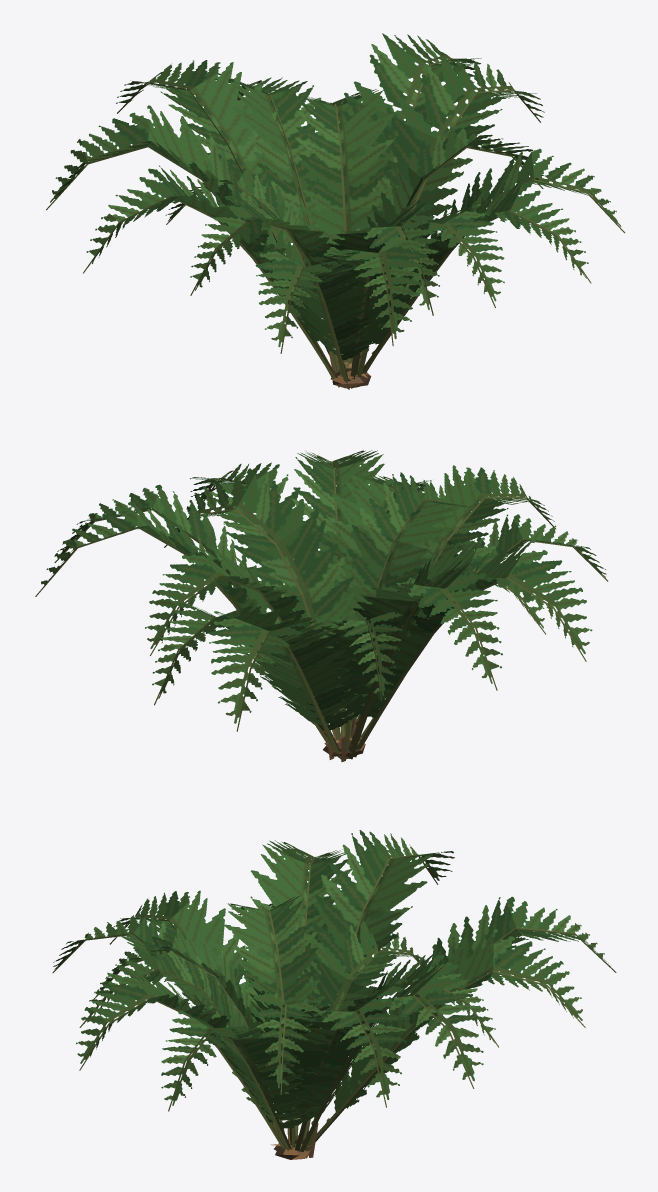
Rendered from fern_sword1_v1.fbx.
The picture shows the model from 3 angles, top to bottom: view 1: azimuth 30°, elevation 25°; view 2: azimuth 150°, elevation 25°; view 3: azimuth 270°, elevation 25°; orthographic projection. The views are drawn at different scales.
Visible parts, largest first — view 1: fern_sword1_v1; view 2: fern_sword1_v1; view 3: fern_sword1_v1.
Part boxes in pixels (box(x1,y1,x2,y2)): fern_sword1_v1: box(46, 33, 625, 389); fern_sword1_v1: box(35, 450, 608, 761); fern_sword1_v1: box(52, 830, 616, 1159).
Bounding box in the file's own units: 188 × 90.33 × 196.
